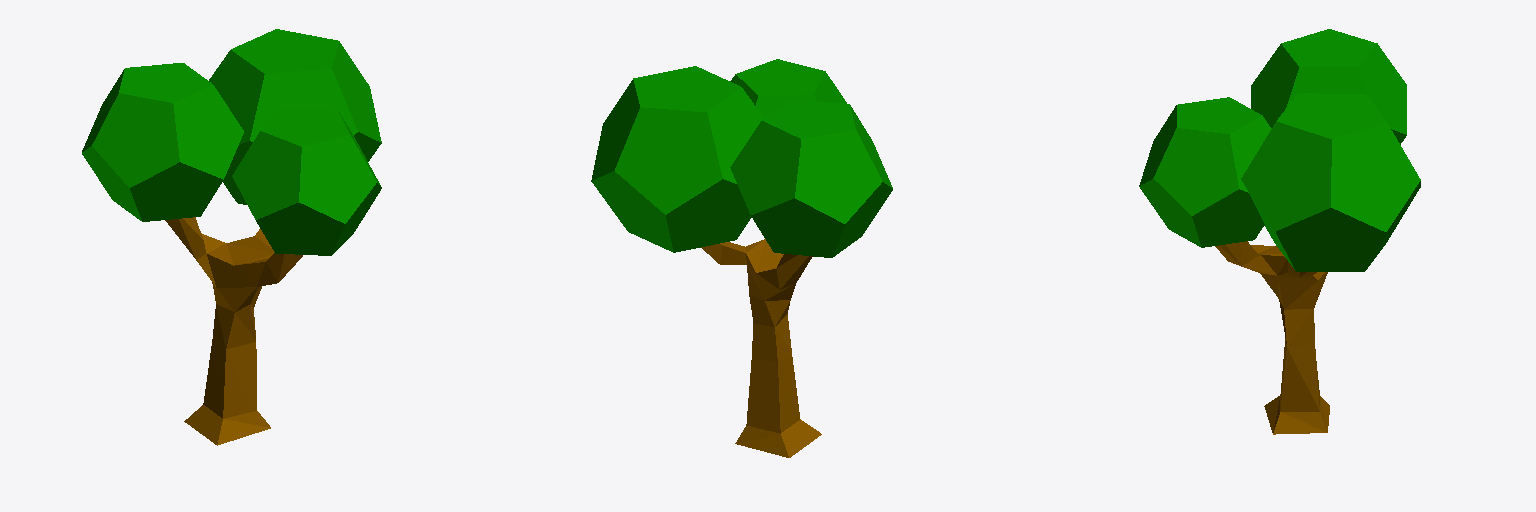
The picture shows the model from 3 angles: view 1: azimuth 30°, elevation 25°; view 2: azimuth 150°, elevation 25°; view 3: azimuth 270°, elevation 25°; orthographic projection.
Visible parts, largest first — view 1: pCube4; view 2: pCube4; view 3: pCube4.
Boxes of the visible parts, x1=… form: pCube4: x1=82, y1=29, x2=381, y2=445; pCube4: x1=591, y1=59, x2=892, y2=457; pCube4: x1=1139, y1=29, x2=1420, y2=434.
Bounding box in the file's own units: 16.7 × 19.74 × 14.61.
Materials: 1 (1 with a texture image).